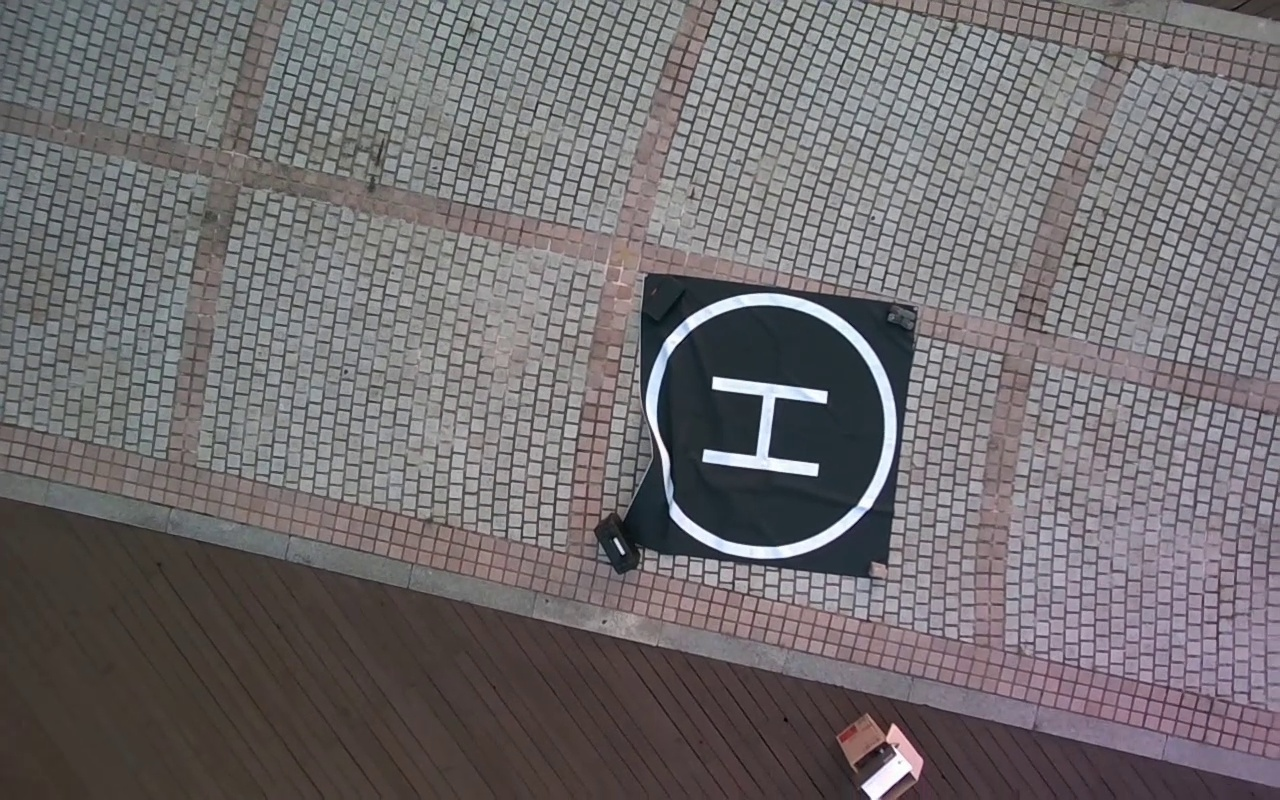H: (701, 373, 828, 486)
